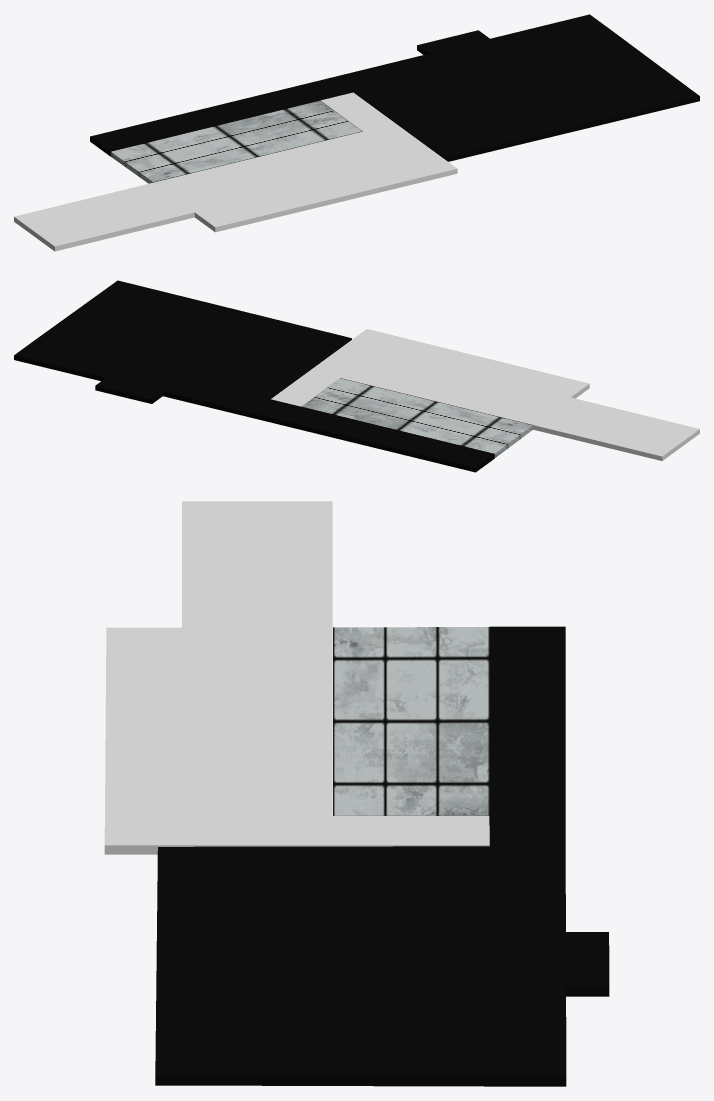
The model's file is Porkies Floors.fbx.
3 views of the same model, one above another, from view 1: azimuth 30°, elevation 25°; view 2: azimuth 150°, elevation 25°; view 3: azimuth 270°, elevation 25° (orthographic). The views are drawn at different scales.
Visible parts, largest first — view 1: Dinning Room Floor, Kitchen Flooring, Bathroom Flooring; view 2: Dinning Room Floor, Kitchen Flooring, Bathroom Flooring; view 3: Dinning Room Floor, Kitchen Flooring, Bathroom Flooring.
Part boxes in pixels (x1,y1,x2,y2): Dinning Room Floor: (90,14,699,161); Kitchen Flooring: (14,92,457,251); Bathroom Flooring: (110,100,361,183); Dinning Room Floor: (14,280,494,472); Kitchen Flooring: (271,329,699,460); Bathroom Flooring: (301,378,532,457); Dinning Room Floor: (155,626,609,1086); Kitchen Flooring: (104,501,489,854); Bathroom Flooring: (333,627,489,825).
Size of the model in its own units: 33.76 by 0.2543 by 12.51.
3 materials, 2 textured.
